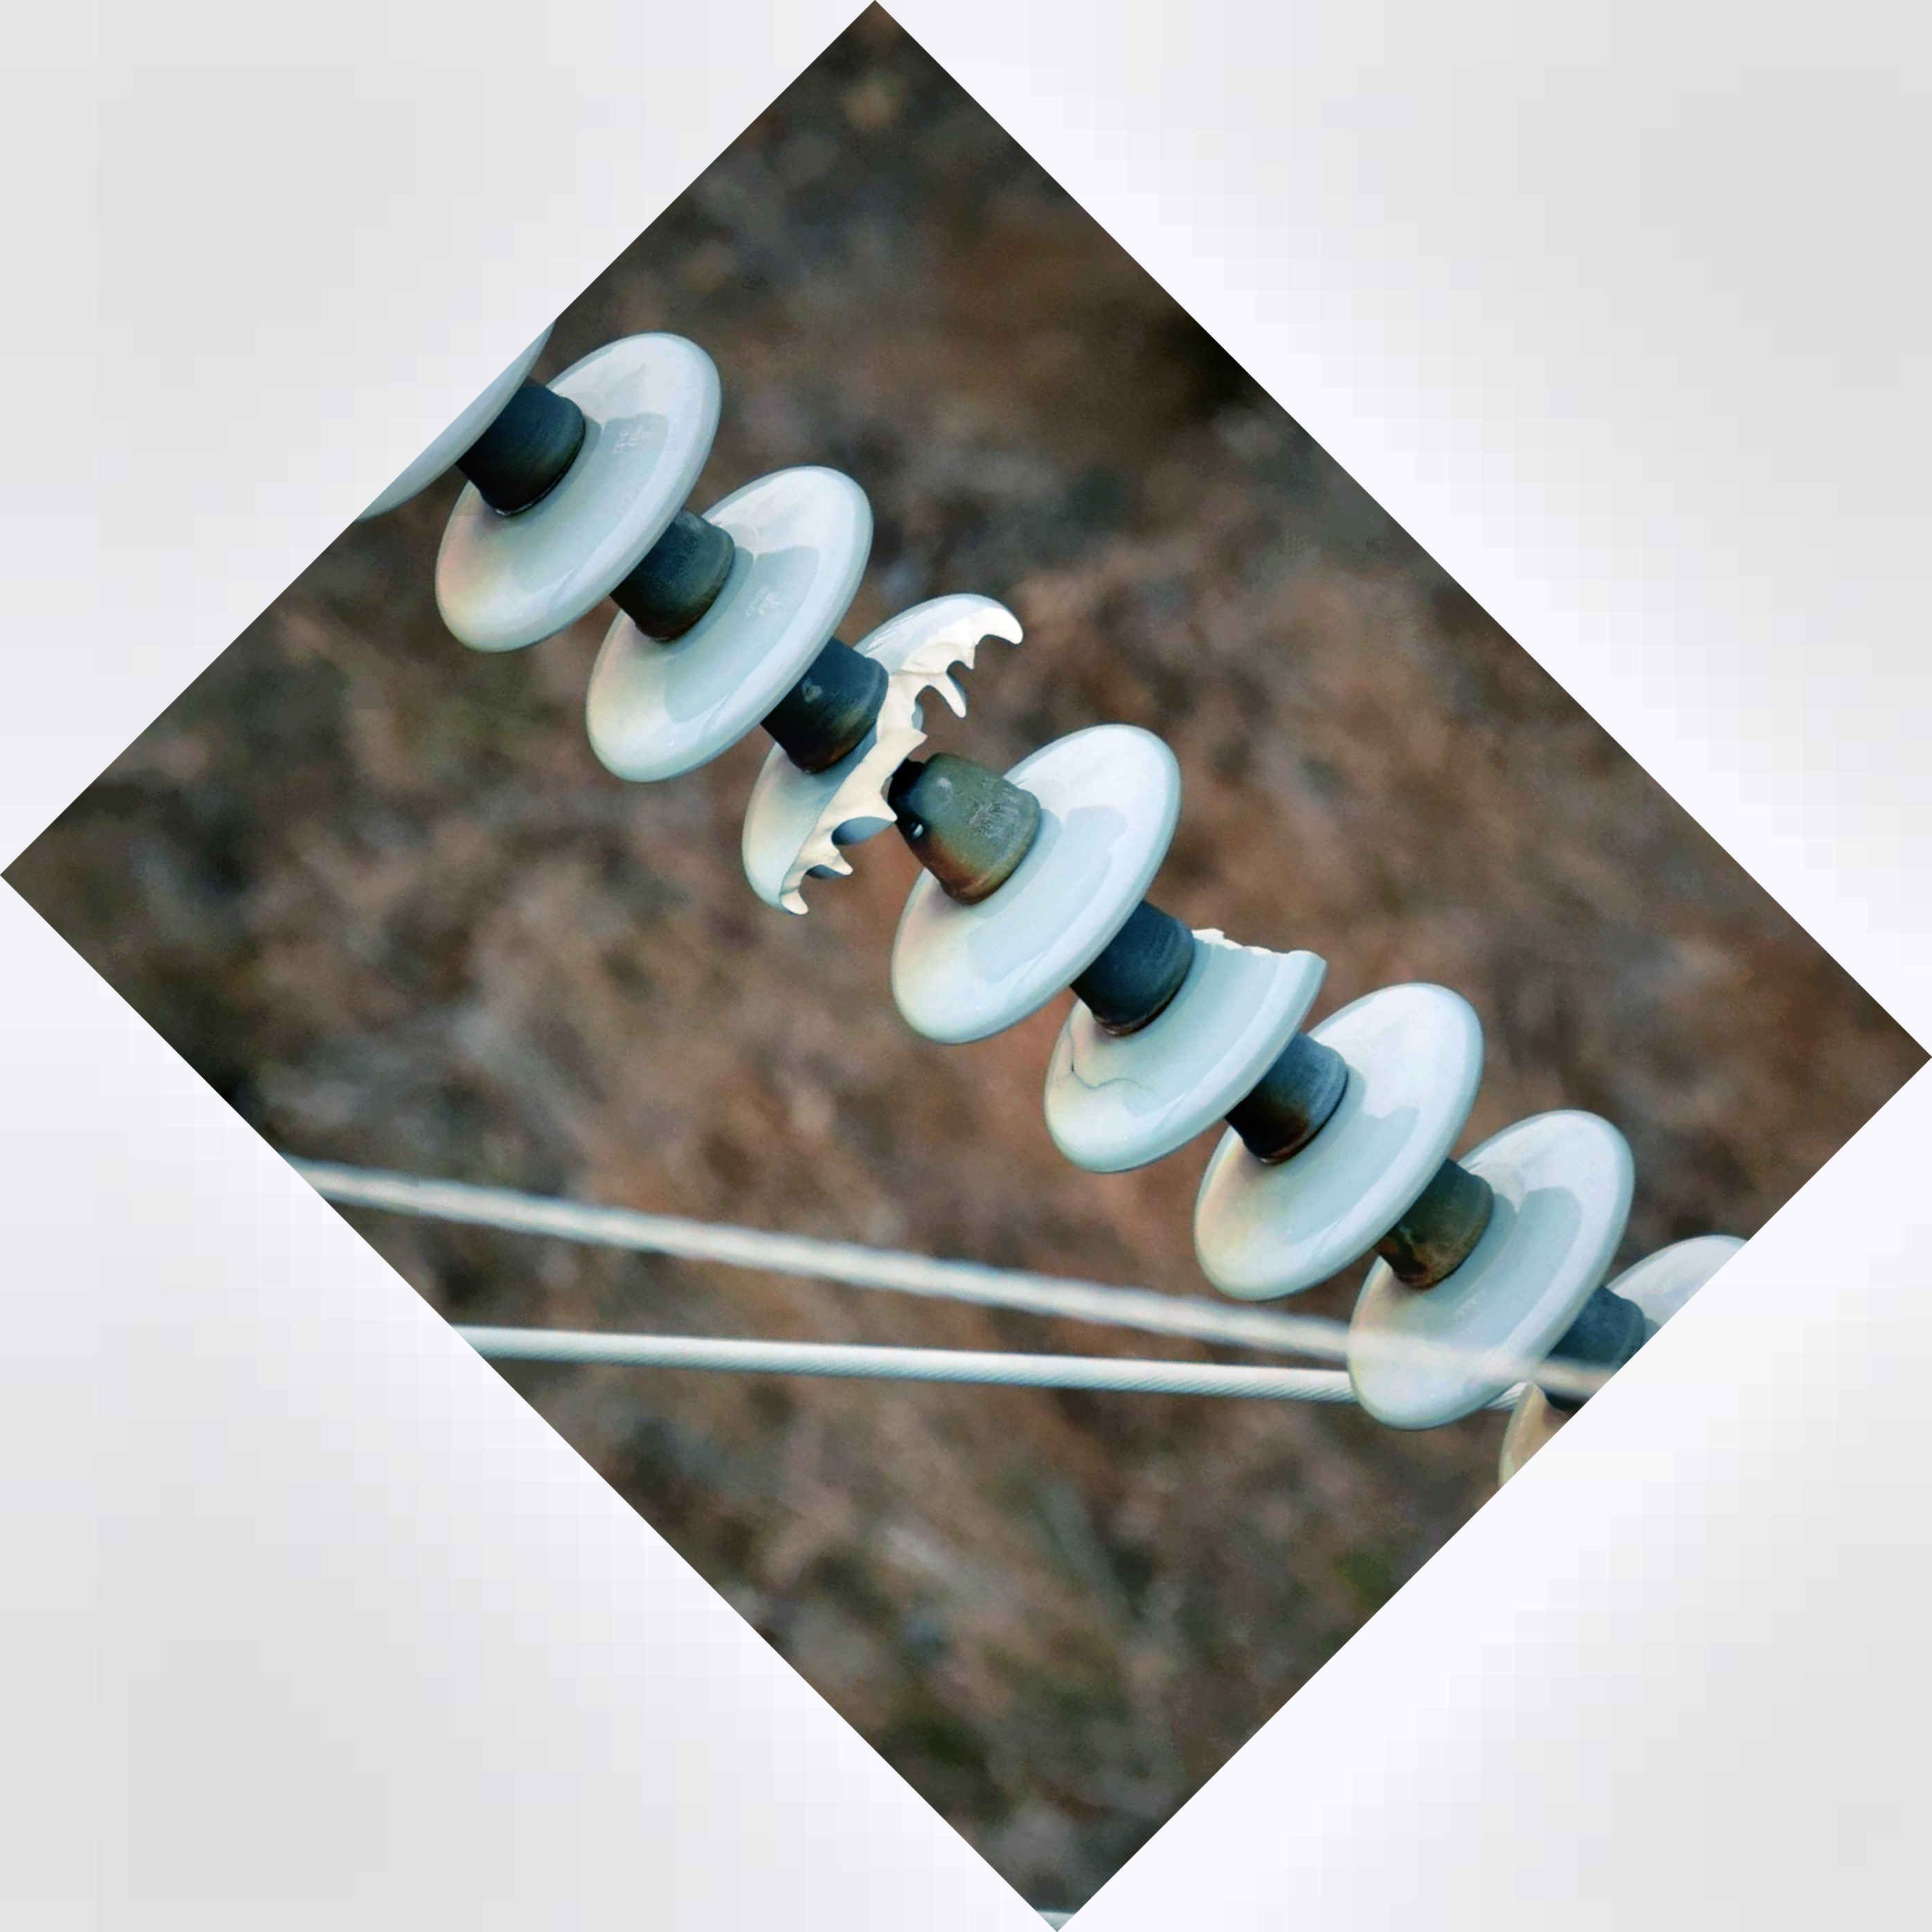insulator breakage: (732, 586, 1037, 929), (1033, 906, 1364, 1185)
